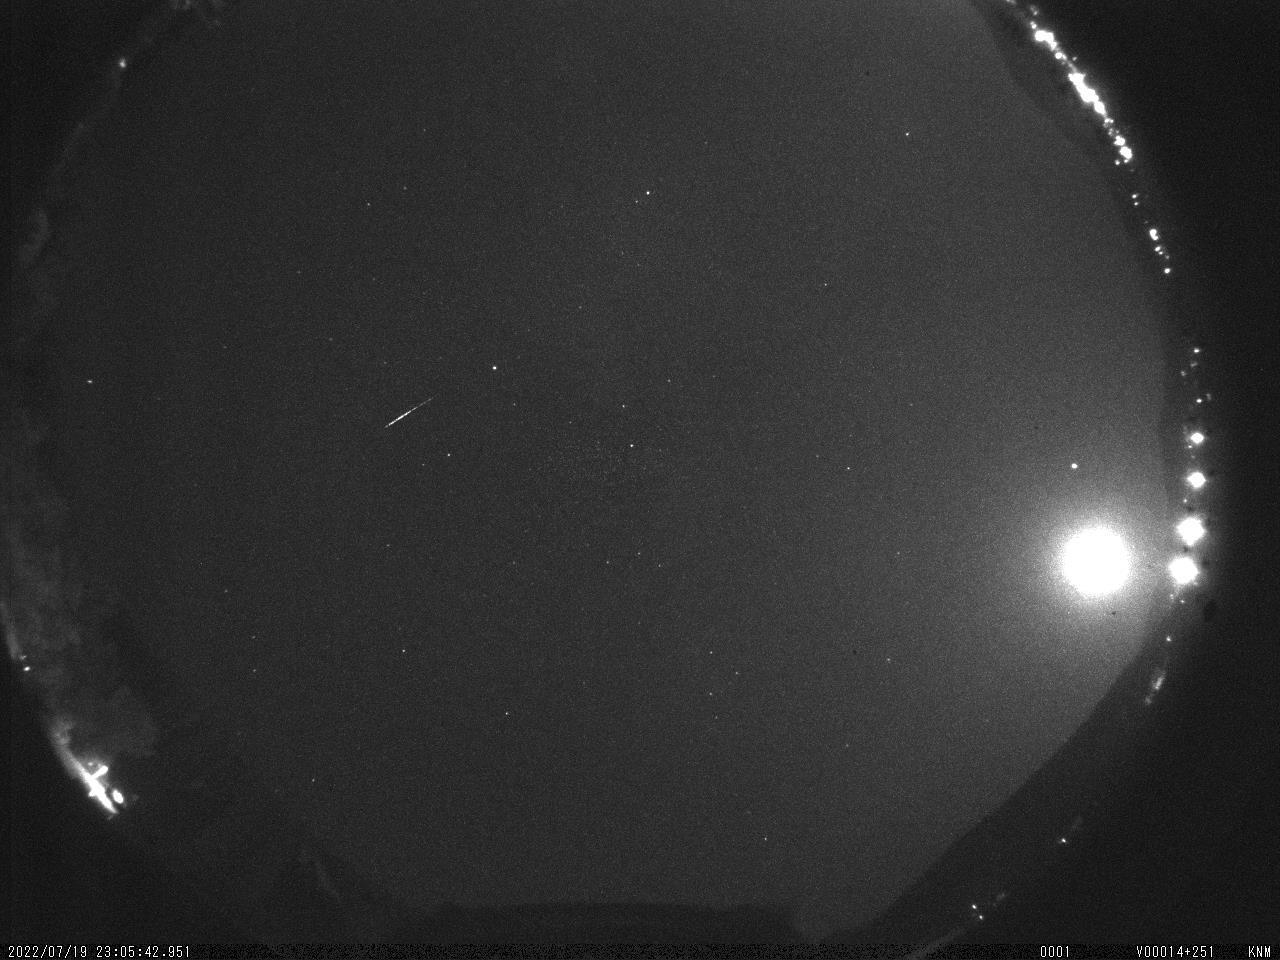Meteor: (382, 392, 442, 431)
